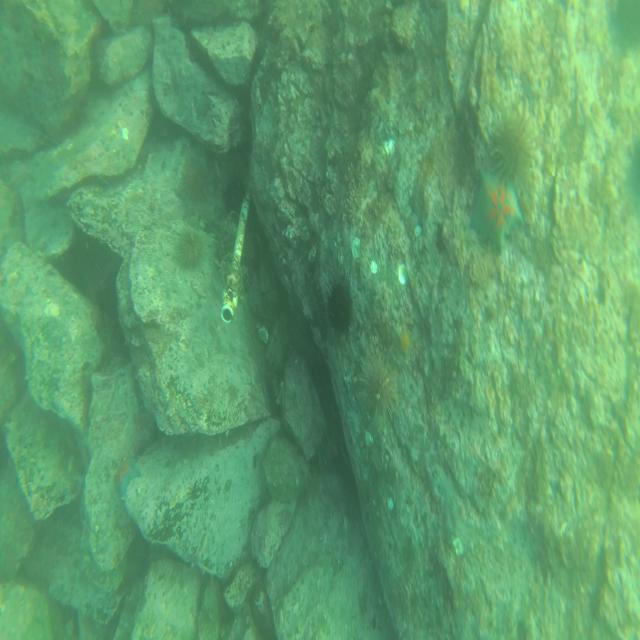echinus: (491, 101, 532, 178), (358, 349, 397, 426), (324, 272, 352, 342), (184, 156, 210, 206), (176, 226, 200, 268)
starfish: (472, 162, 526, 252), (112, 456, 141, 496)
